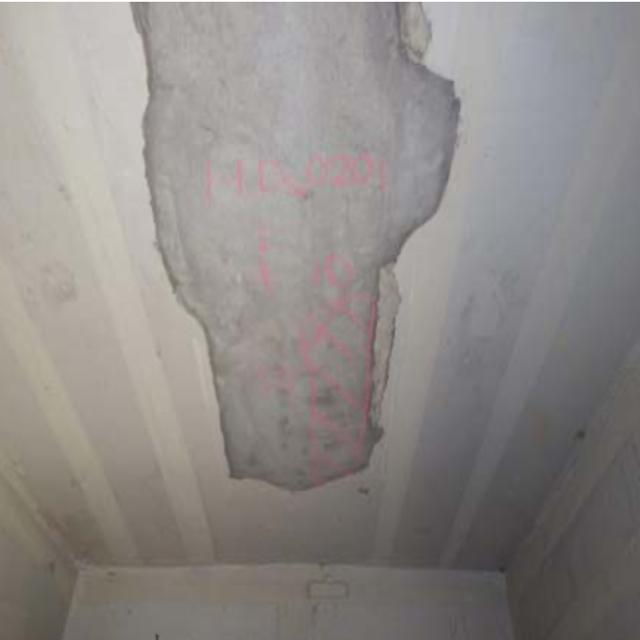spalling: (117, 6, 473, 504)
